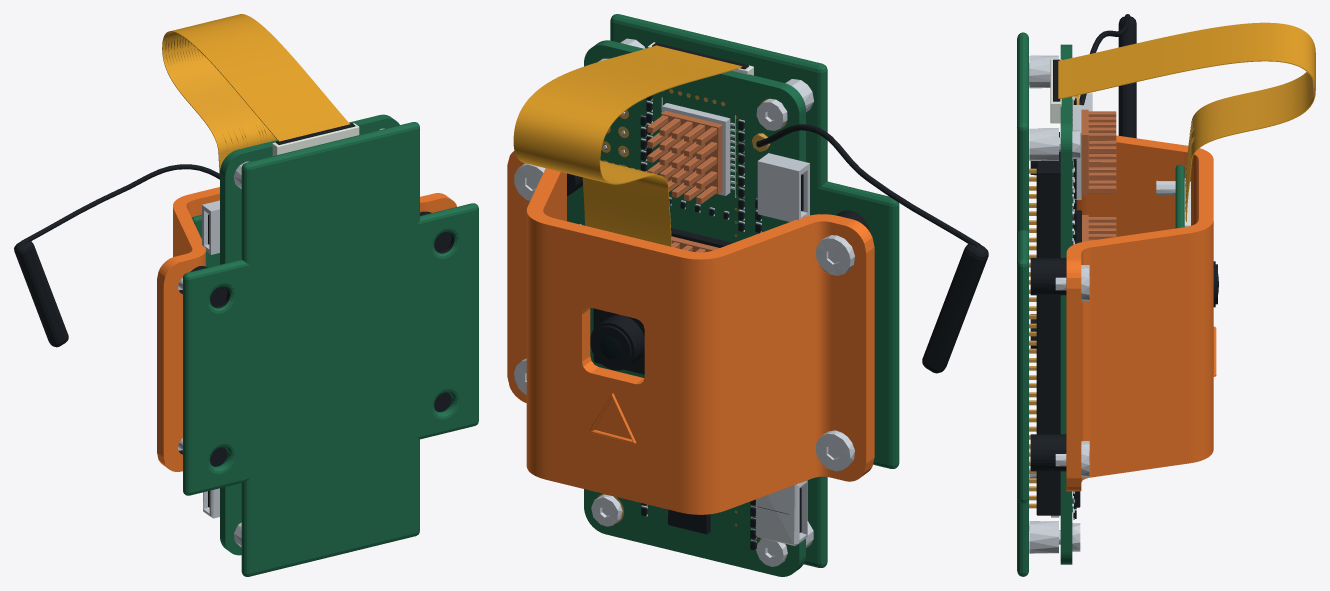
File: radxa-module.glb
3 views of the same model, side by side, from view 1: azimuth 30°, elevation 25°; view 2: azimuth 150°, elevation 25°; view 3: azimuth 270°, elevation 25° (orthographic). The views are drawn at different scales.
Parts seen in each view (by area): view 1: radxa_green_solder_mask_mesh, radxa_amber_flex_mesh, radxa_orange_printed_polymer_mesh, radxa_black_polymer_mesh, radxa_stainless_steel_mesh, radxa_contact_gold_mesh, radxa_silkscreen_mesh; view 2: radxa_orange_printed_polymer_mesh, radxa_green_solder_mask_mesh, radxa_amber_flex_mesh, radxa_stainless_steel_mesh, radxa_black_polymer_mesh, radxa_copper_heatsinks_mesh, radxa_contact_gold_mesh; view 3: radxa_orange_printed_polymer_mesh, radxa_amber_flex_mesh, radxa_black_polymer_mesh, radxa_green_solder_mask_mesh, radxa_stainless_steel_mesh, radxa_copper_heatsinks_mesh, radxa_contact_gold_mesh, radxa_silkscreen_mesh.
Boxes of the visible parts, x1,y1,x2,y2 form: radxa_green_solder_mask_mesh: (183,114,478,576); radxa_amber_flex_mesh: (162,14,349,173); radxa_orange_printed_polymer_mesh: (157,187,456,471); radxa_black_polymer_mesh: (14,123,454,507); radxa_stainless_steel_mesh: (178,128,384,547); radxa_contact_gold_mesh: (165,32,275,161); radxa_silkscreen_mesh: (272,123,359,155); radxa_orange_printed_polymer_mesh: (507,151,874,514); radxa_green_solder_mask_mesh: (567,14,899,576); radxa_amber_flex_mesh: (513,45,742,246); radxa_stainless_steel_mesh: (514,38,854,566); radxa_black_polymer_mesh: (567,42,988,550); radxa_copper_heatsinks_mesh: (647,110,722,252); radxa_contact_gold_mesh: (597,89,787,557); radxa_orange_printed_polymer_mesh: (1066,135,1216,491); radxa_amber_flex_mesh: (1058,22,1315,221); radxa_black_polymer_mesh: (1030,14,1217,518); radxa_green_solder_mask_mesh: (1017,32,1184,576); radxa_stainless_steel_mesh: (1029,55,1185,553); radxa_copper_heatsinks_mesh: (1081,109,1116,241); radxa_contact_gold_mesh: (1029,72,1314,508); radxa_silkscreen_mesh: (1050,59,1190,244).
Bounding box in the file's own units: 0.1407 × 0.1446 × 0.0799.
